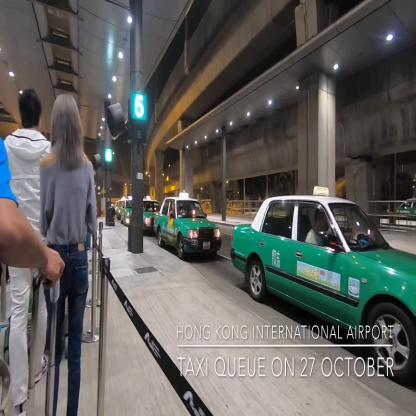taxi: (229, 176, 416, 403), (155, 188, 225, 271)
